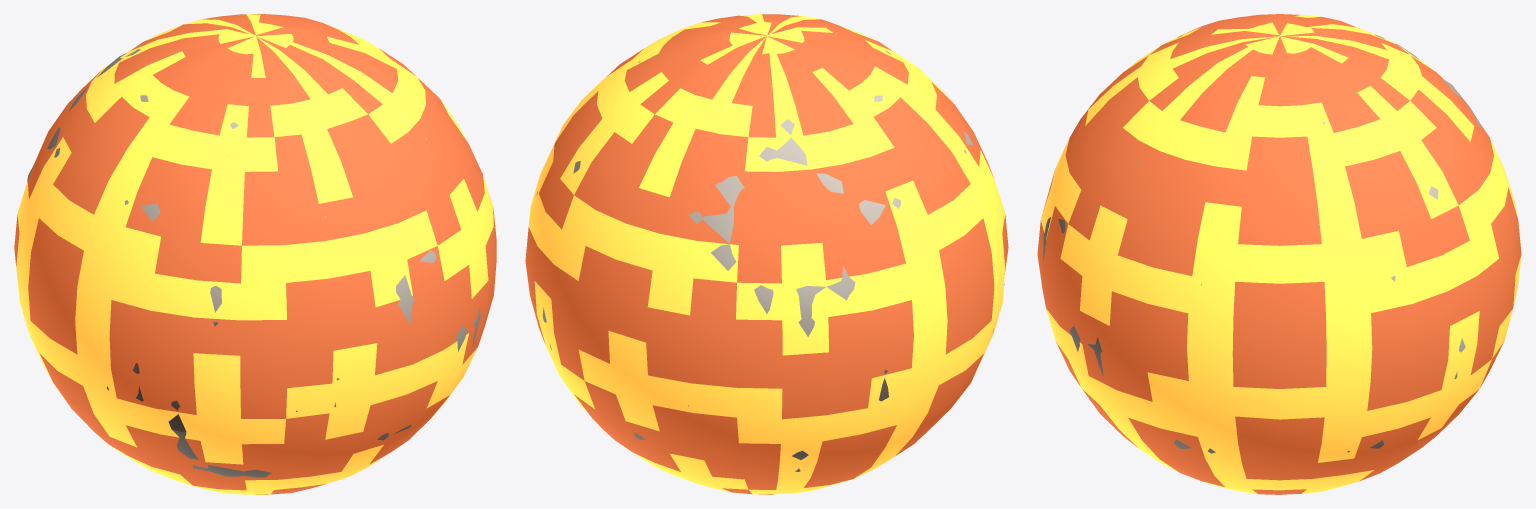
The model's file is planet-dwarf.glb.
The picture shows the model from 3 angles, left to right: view 1: azimuth 30°, elevation 25°; view 2: azimuth 150°, elevation 25°; view 3: azimuth 270°, elevation 25°; orthographic projection.
Parts seen in each view (by area): view 1: Magma_Crust, Dwarf_Globe; view 2: Magma_Crust, Dwarf_Globe; view 3: Magma_Crust, Dwarf_Globe.
Boxes of the visible parts, x1,y1,x2,y2 form: Magma_Crust: (14,14,496,494); Dwarf_Globe: (27,29,480,489); Magma_Crust: (525,14,1008,494); Dwarf_Globe: (536,50,1004,471); Magma_Crust: (1037,14,1521,494); Dwarf_Globe: (1043,34,1481,492).
Size of the model in its own units: 2.02 by 2.03 by 2.03.
